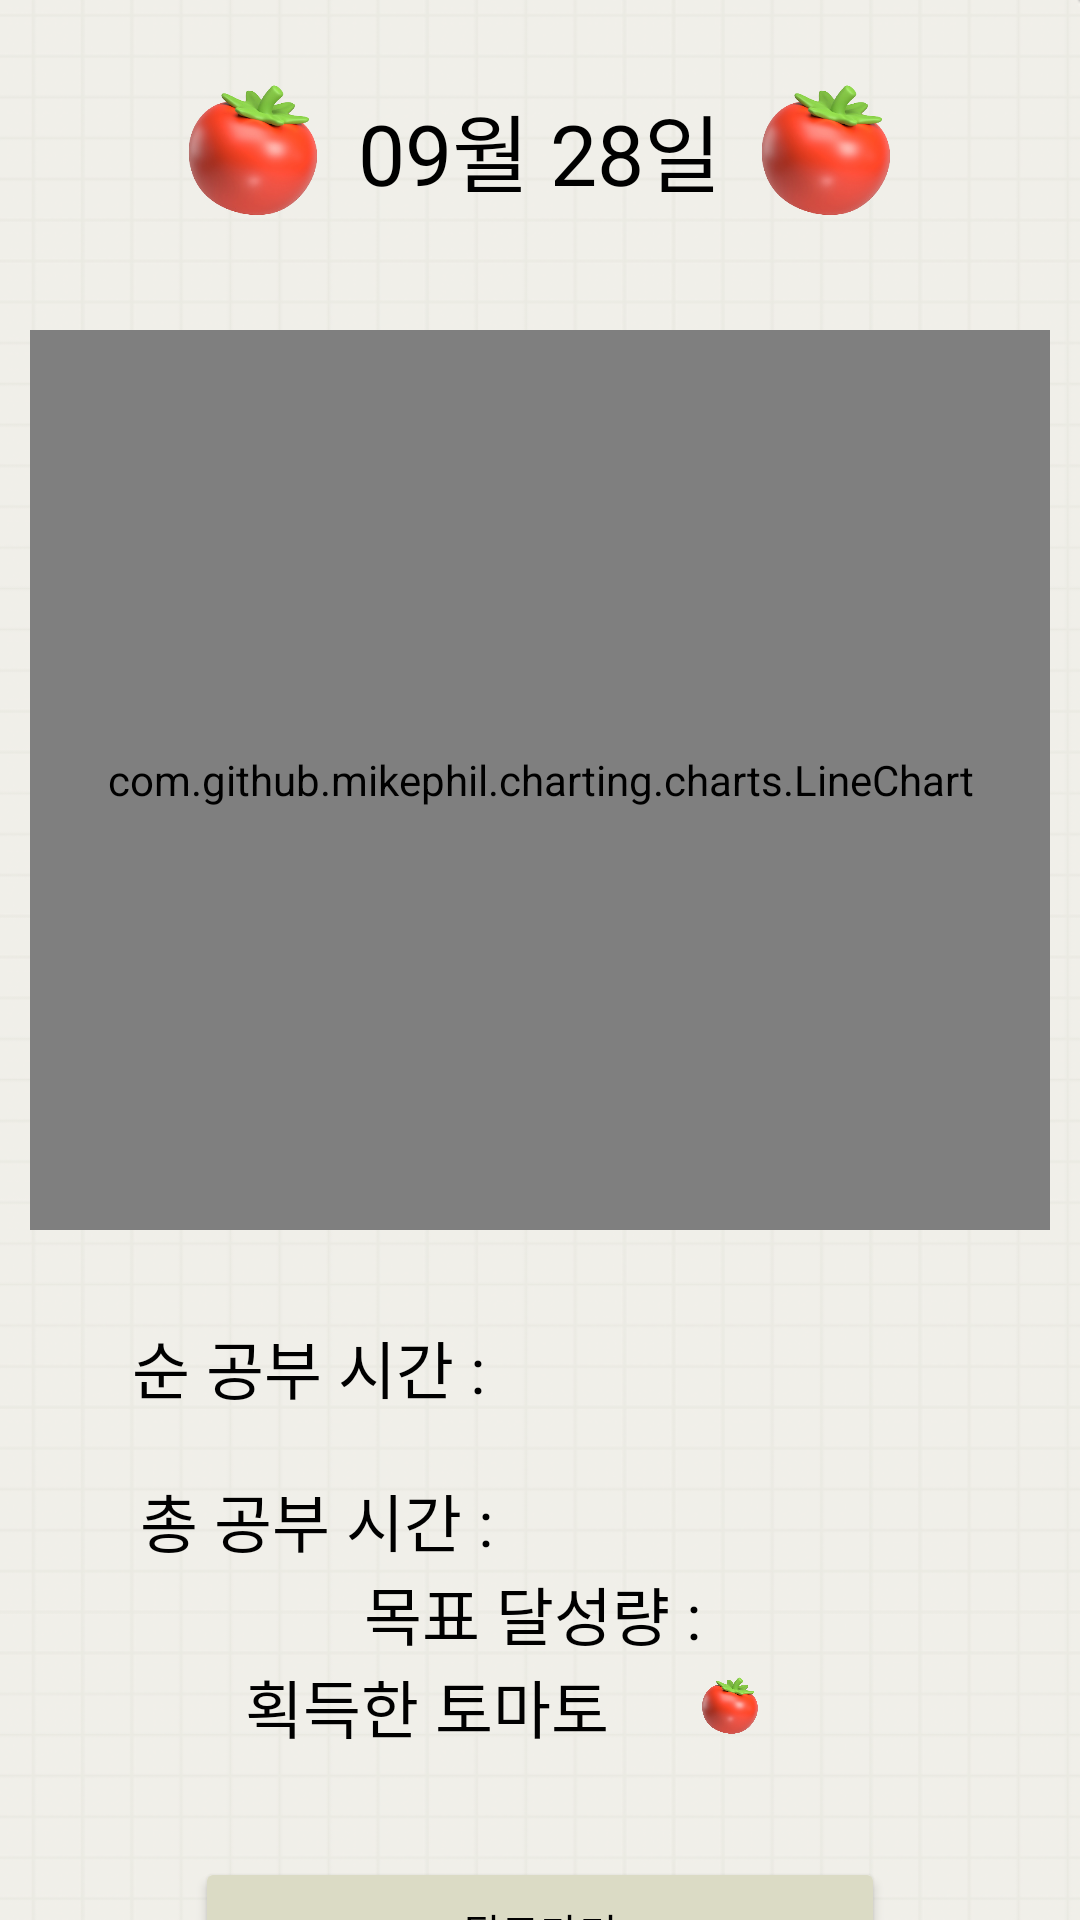

Icon click points for this 1080×1920 phone screenshot, format (x,y):
tomato 3d: (253,150), (826,150), (730,1705)
